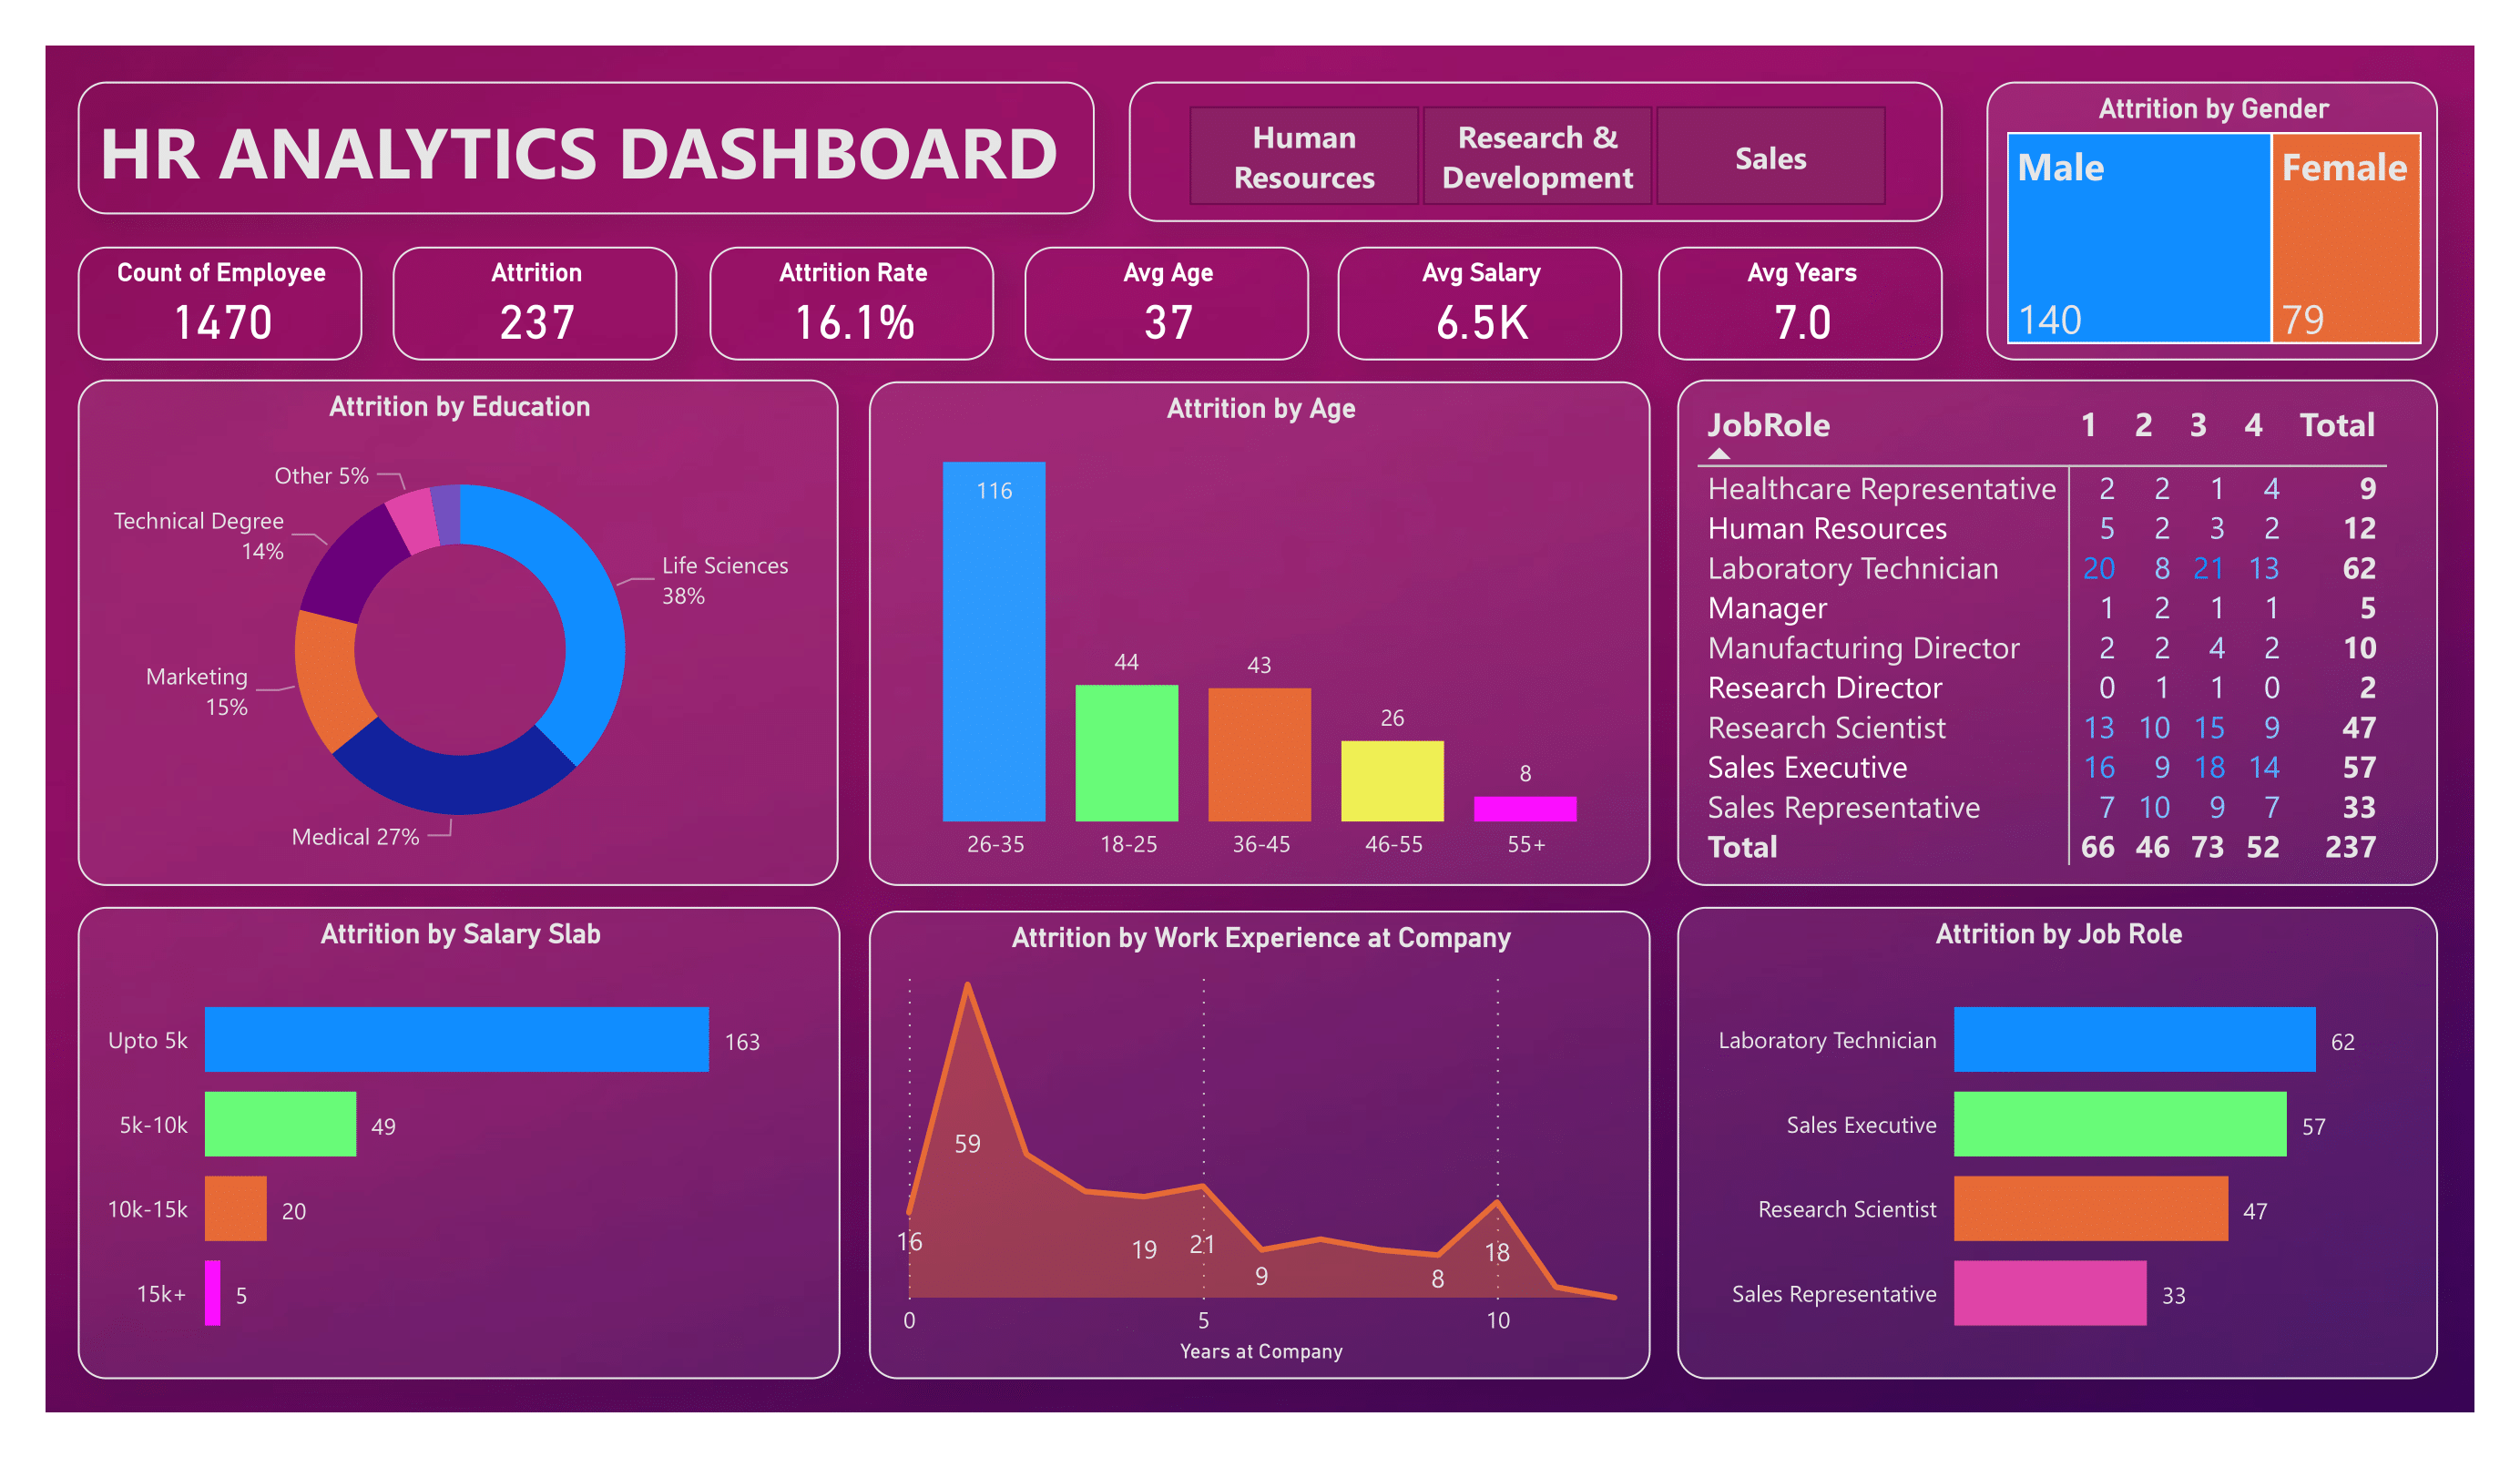

What the dashboard file says about the page in this screenshot:
{"tool":"powerbi","page":{"name":"Page 1","canvas":[1280,720],"ordinal":0},"visuals":[{"type":"card","title":"Count of Employee","fields":{"Values":["CountNonNull(HR_Analytics.EmpID)"]},"box":[17.1,105.7,150,60],"z":0},{"type":"card","title":"Attrition","fields":{"Values":["Sum(HR_Analytics.Attrition_Count)"]},"box":[182.9,105.7,150,60],"z":1000},{"type":"card","title":"Attrition Rate","fields":{"Values":["HR_Analytics.Attrition_Rate"]},"box":[350,105.7,150,60],"z":2000},{"type":"card","title":"Avg Age","fields":{"Values":["Avg(HR_Analytics.Age)"]},"box":[515.7,105.7,150,60],"z":3000},{"type":"card","title":"Avg Salary","fields":{"Values":["Avg(HR_Analytics.MonthlyIncome)"]},"box":[681.4,105.7,150,60],"z":4000},{"type":"card","title":"Avg Years","fields":{"Values":["Avg(HR_Analytics.YearsAtCompany)"]},"box":[850,105.7,150,60],"z":5000},{"type":"donutChart","title":"Attrition by Education","fields":{"Category":["HR_Analytics.EducationField"],"Y":["Sum(HR_Analytics.Attrition_Count)"]},"box":[17.1,175.7,401,267.1],"z":6000},{"type":"columnChart","title":"Attrition by Age","fields":{"Category":["HR_Analytics.AgeGroup"],"Y":["Sum(HR_Analytics.Attrition_Count)"]},"box":[434.3,177.1,411.4,265.7],"z":7000},{"type":"pivotTable","fields":{"Rows":["HR_Analytics.JobRole"],"Columns":["HR_Analytics.JobSatisfaction"],"Values":["Sum(HR_Analytics.Attrition_Count)"]},"box":[860,175.7,401.4,267.1],"z":8000},{"type":"barChart","title":"Attrition by Salary Slab","fields":{"Category":["HR_Analytics.SalarySlab"],"Y":["Sum(HR_Analytics.Attrition_Count)"]},"box":[17.1,454.3,401.4,248.6],"z":9000},{"type":"barChart","title":"Attrition by Job Role","fields":{"Category":["HR_Analytics.JobRole"],"Y":["Sum(HR_Analytics.Attrition_Count)"]},"box":[860,454.3,401.4,248.6],"z":10000},{"type":"stackedAreaChart","title":"Attrition by Work Experience at Company","fields":{"Category":["HR_Analytics.YearsAtCompany"],"Y":["Sum(HR_Analytics.Attrition_Count)"]},"box":[434.3,455.7,411.4,247.1],"z":11000},{"type":"treemap","title":"Attrition by Gender","fields":{"Group":["HR_Analytics.Gender"],"Values":["Sum(HR_Analytics.Attrition_Count)"]},"box":[1022.9,18.6,238.6,147.1],"z":12000},{"type":"slicer","fields":{"Values":["HR_Analytics.Department"]},"box":[571.4,18.6,428.6,74.3],"z":13000},{"type":"textbox","box":[17.1,18.6,535.7,70],"z":14000}]}

Visuals, with their boxes in screenshot pixels (x1, y1, x2, y2):
"Count of Employee" card: (left=78, top=246, right=362, bottom=360)
"Attrition" card: (left=393, top=246, right=678, bottom=360)
"Attrition Rate" card: (left=709, top=246, right=995, bottom=360)
"Avg Age" card: (left=1025, top=246, right=1309, bottom=360)
"Avg Salary" card: (left=1339, top=246, right=1623, bottom=360)
"Avg Years" card: (left=1658, top=246, right=1944, bottom=360)
"Attrition by Education" donutChart: (left=78, top=379, right=839, bottom=886)
"Attrition by Age" columnChart: (left=870, top=382, right=1650, bottom=885)
pivotTable - HR_Analytics.JobRole x HR_Analytics.JobSatisfaction: (left=1678, top=379, right=2439, bottom=886)
"Attrition by Salary Slab" barChart: (left=78, top=907, right=840, bottom=1379)
"Attrition by Job Role" barChart: (left=1678, top=907, right=2439, bottom=1379)
"Attrition by Work Experience at Company" stackedAreaChart: (left=870, top=910, right=1650, bottom=1379)
"Attrition by Gender" treemap: (left=1986, top=81, right=2439, bottom=360)
slicer - HR_Analytics.Department: (left=1130, top=81, right=1944, bottom=222)
textbox: (left=78, top=81, right=1095, bottom=214)
